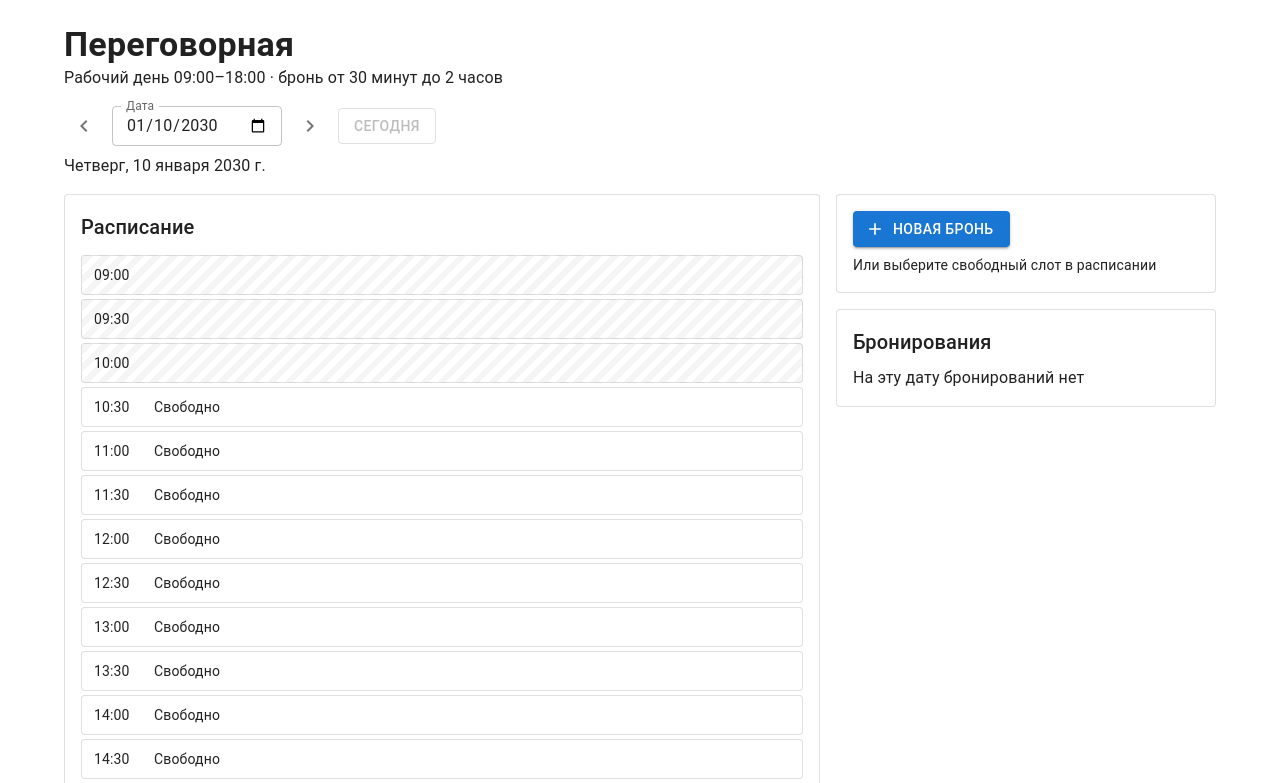
Test: расписание дня › на прошедшую дату создавать брони нельзя
The width and height of the screenshot is (1280, 783).
Expected: the button "10:30 Свободно" is shown, [81,387,803,427]
Click the button named "Предыдущий день" at (84, 126), box [64,106,104,146]
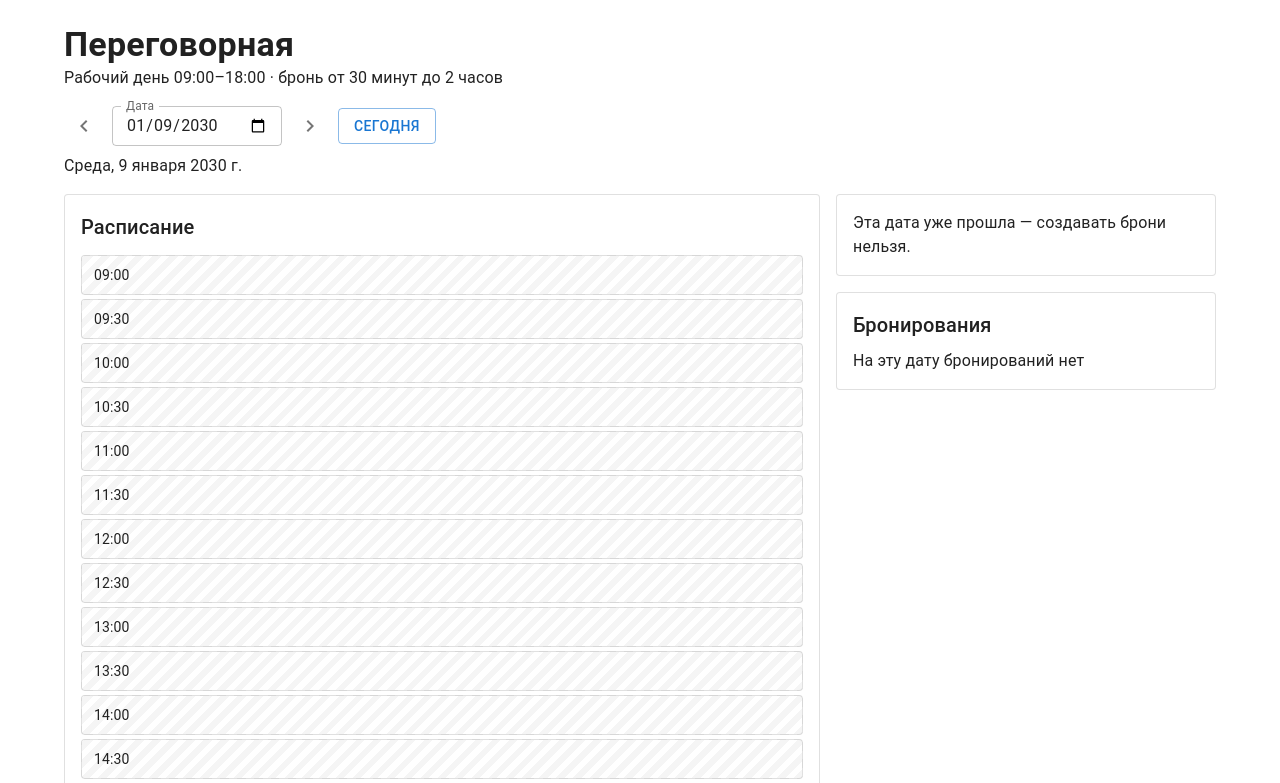
Result: the text "Эта дата уже прошла — создавать брони нельзя." is shown at [853,211,1199,259]
Result: the button "Новая бронь" is gone
